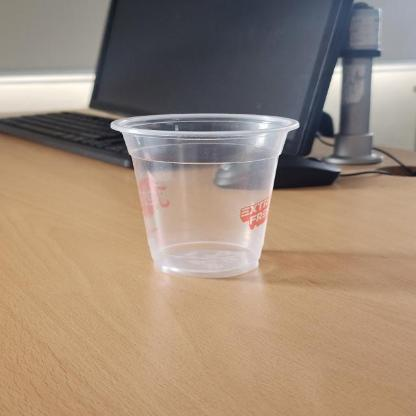Plastic Cup: (108, 113, 304, 279)
